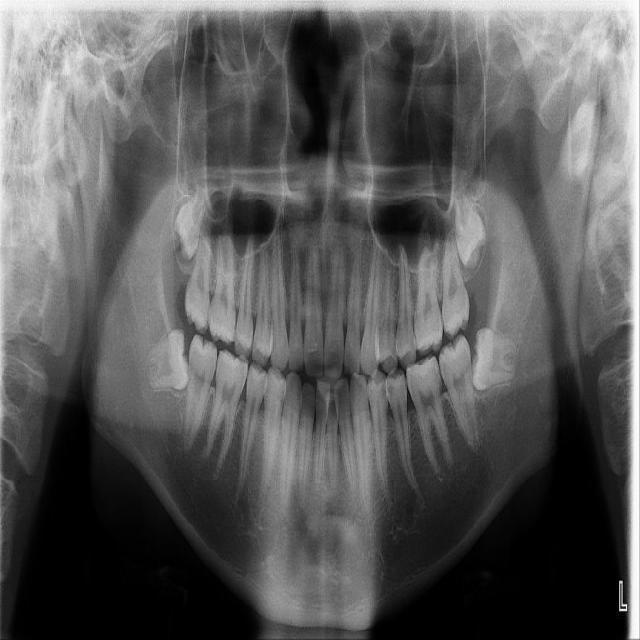3M ESPE Implant: (167, 184, 209, 262)
52: (386, 378, 395, 401), (382, 379, 388, 403)
73: (625, 612, 630, 622)
BioHorizons Implant: (441, 219, 471, 342)
BioLife Implant: (444, 166, 491, 271)
Biomet 3i Implant: (466, 325, 524, 397)
Blue Sky Bio Implant: (436, 333, 481, 455)
Caries: (184, 212, 213, 336)
Implant: (180, 333, 219, 454)
Keystone Dental Implant: (142, 326, 192, 395)
